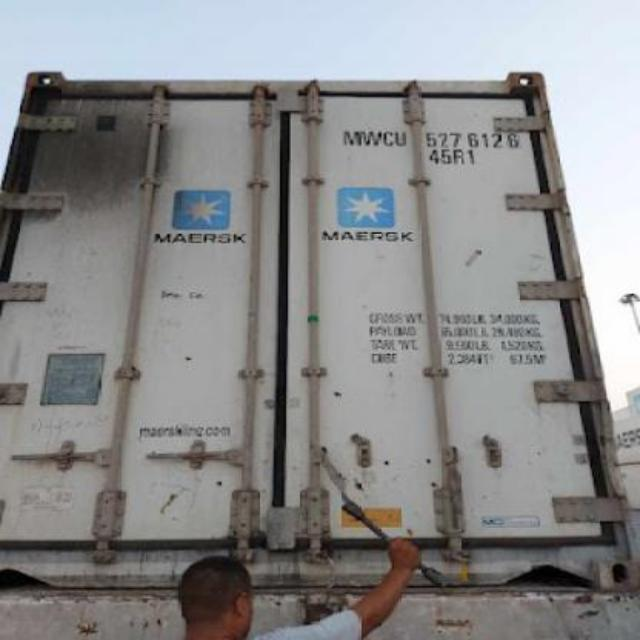1: (481, 130, 491, 150)
2: (437, 131, 449, 149), (491, 132, 503, 150)
5: (426, 131, 438, 149)
6: (505, 132, 523, 152), (466, 132, 479, 148)
7: (450, 130, 462, 148)
C: (381, 130, 395, 148)
M: (343, 130, 361, 148)
U: (394, 130, 408, 148)
W: (362, 128, 382, 148)
